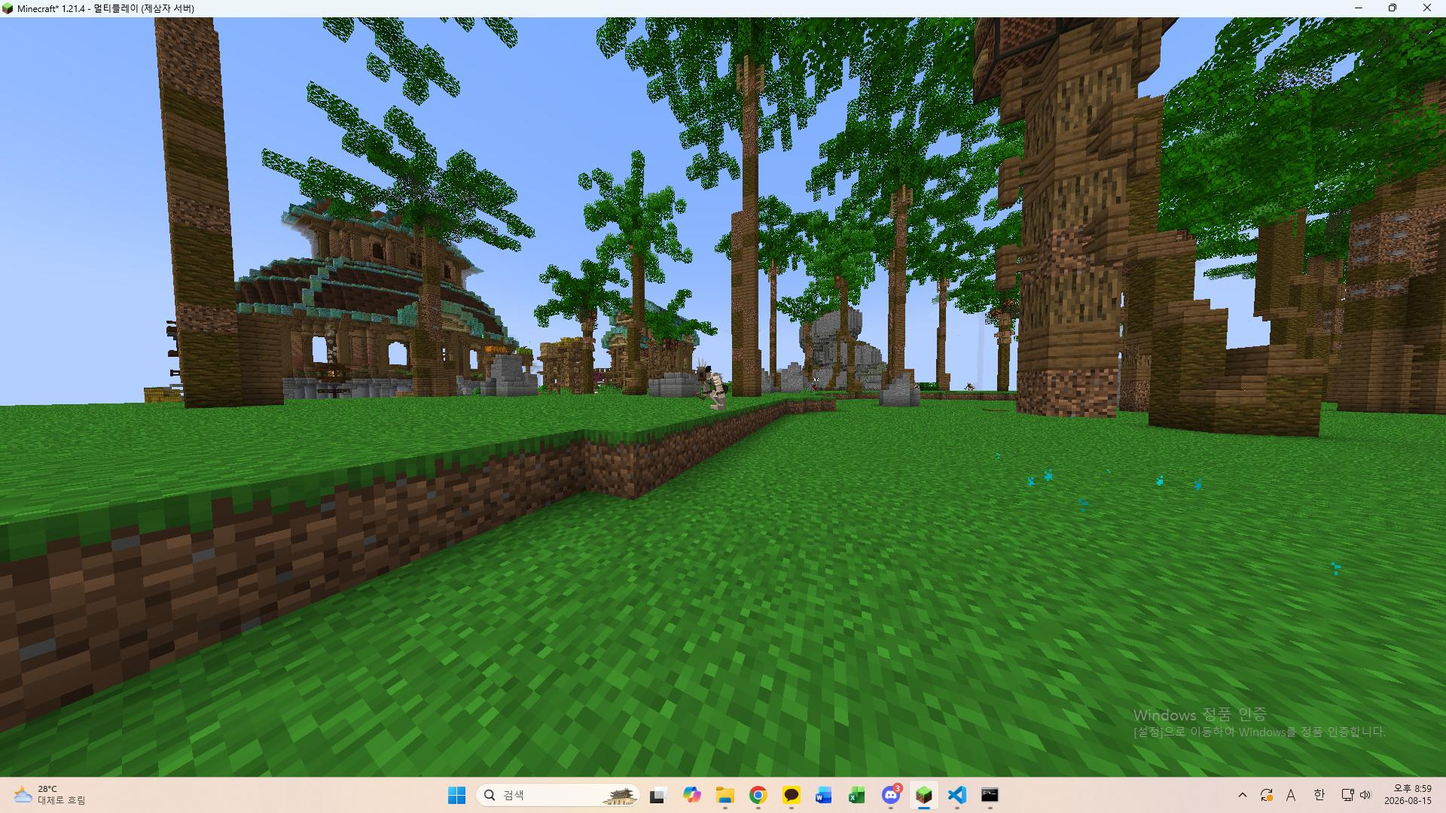bow_indian: (691, 360, 738, 419)
